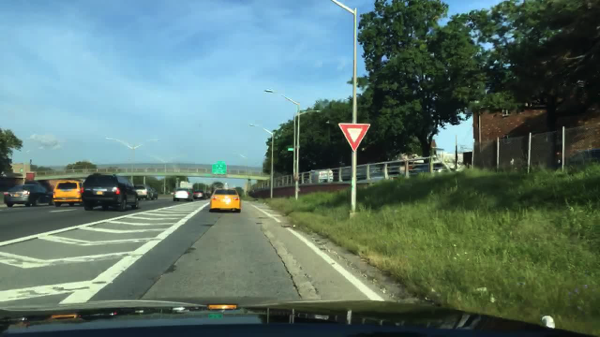car: (81, 172, 140, 210), (3, 183, 54, 206), (210, 188, 242, 212), (53, 182, 81, 206), (407, 162, 448, 178), (341, 165, 381, 181), (386, 160, 415, 178), (307, 169, 332, 184), (134, 185, 156, 200), (173, 187, 192, 202), (194, 191, 205, 198)
traffic sign: (337, 123, 371, 152), (212, 165, 226, 176), (286, 148, 296, 152), (217, 160, 226, 163)
